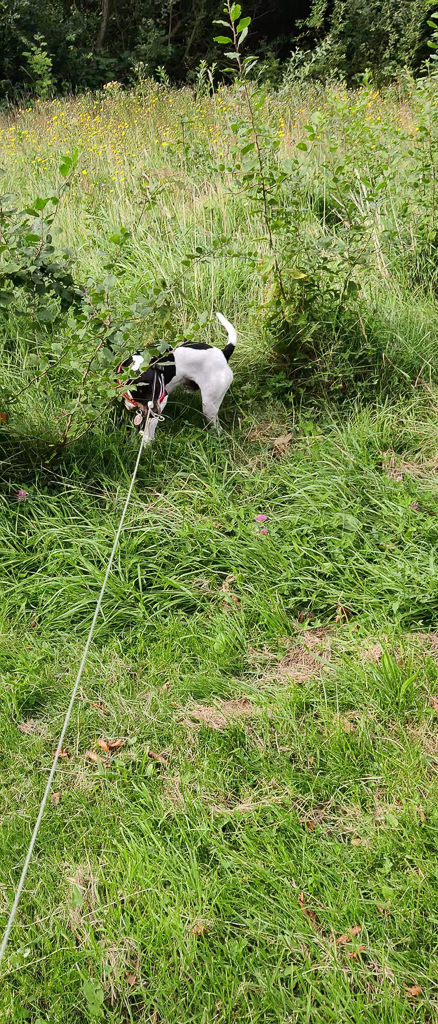Dog: (97, 306, 248, 454)
